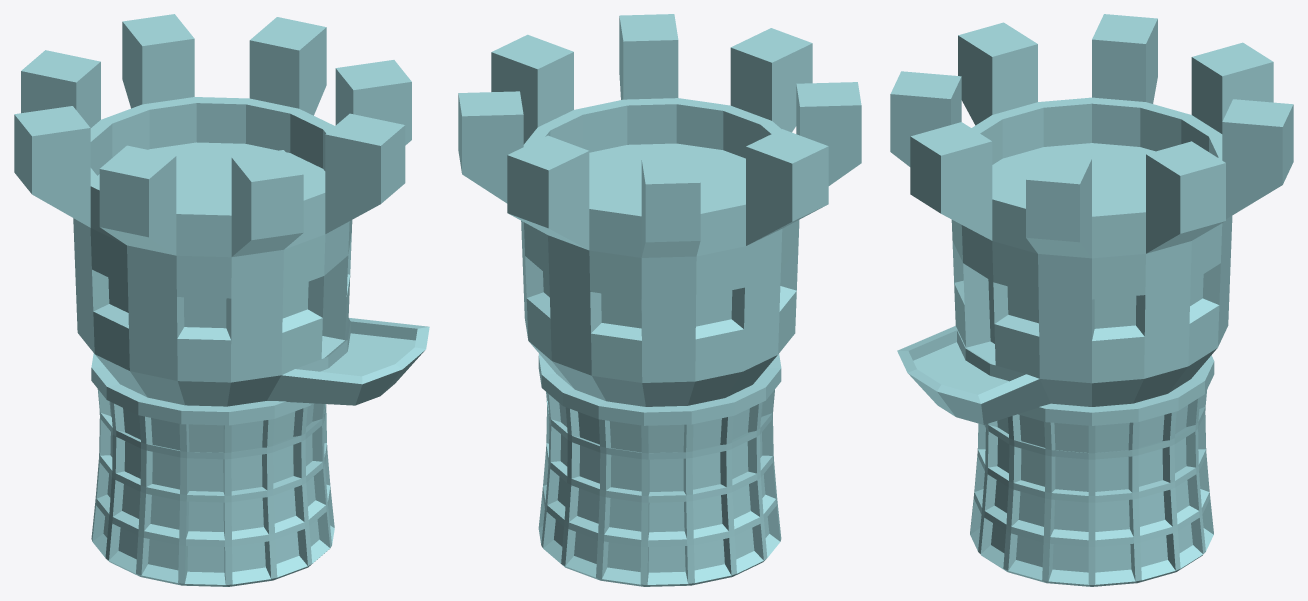
File: Tower01.fbx
The picture shows the model from 3 angles, left to right: view 1: azimuth 30°, elevation 25°; view 2: azimuth 150°, elevation 25°; view 3: azimuth 270°, elevation 25°; orthographic projection.
Parts seen in each view (by area): view 1: Cylinder.031; view 2: Cylinder.031; view 3: Cylinder.031.
Boxes of the visible parts, <box> form: Cylinder.031: <box>14,14,429,586</box>; Cylinder.031: <box>458,14,861,586</box>; Cylinder.031: <box>890,14,1293,586</box>.
Size of the model in its own units: 989 by 1184 by 989.
